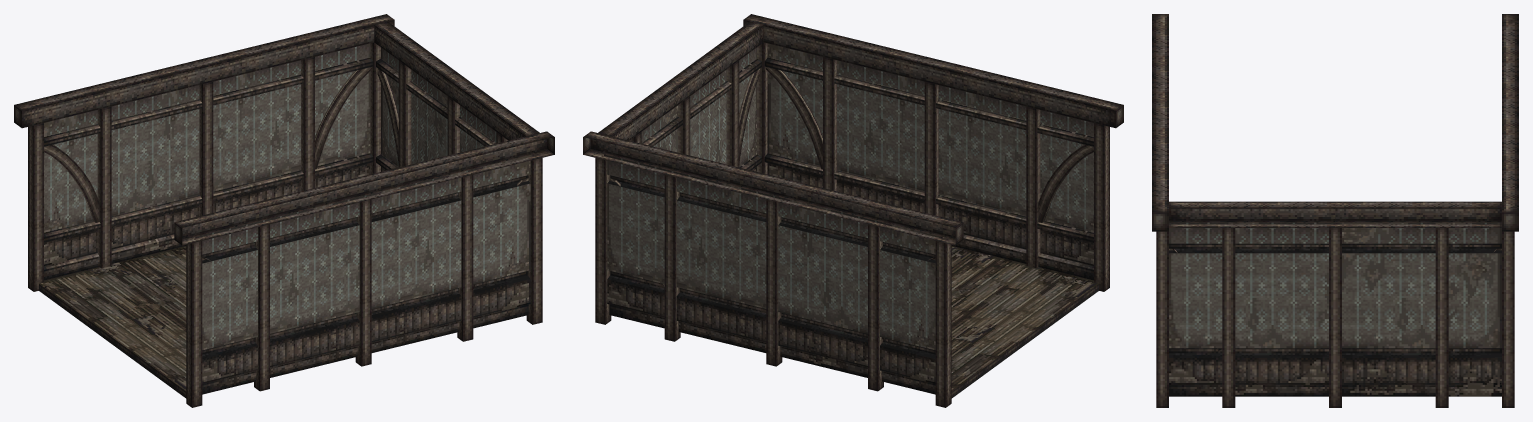
File: EnvBdgMD_City_D_Indoor_House_B.FBX
3 renders of one model, left to right at view 1: azimuth 30°, elevation 25°; view 2: azimuth 150°, elevation 25°; view 3: azimuth 270°, elevation 25°, orthographic. The views are drawn at different scales.
Visible parts, largest first — view 1: EnvBdgMD_City_D_Indoor_House_B; view 2: EnvBdgMD_City_D_Indoor_House_B; view 3: EnvBdgMD_City_D_Indoor_House_B.
Boxes of the visible parts, x1,y1,x2,y2 form: EnvBdgMD_City_D_Indoor_House_B: (14, 14, 554, 407); EnvBdgMD_City_D_Indoor_House_B: (583, 14, 1123, 407); EnvBdgMD_City_D_Indoor_House_B: (1152, 14, 1518, 407).
Size of the model in its own units: 1100 by 520 by 860.
